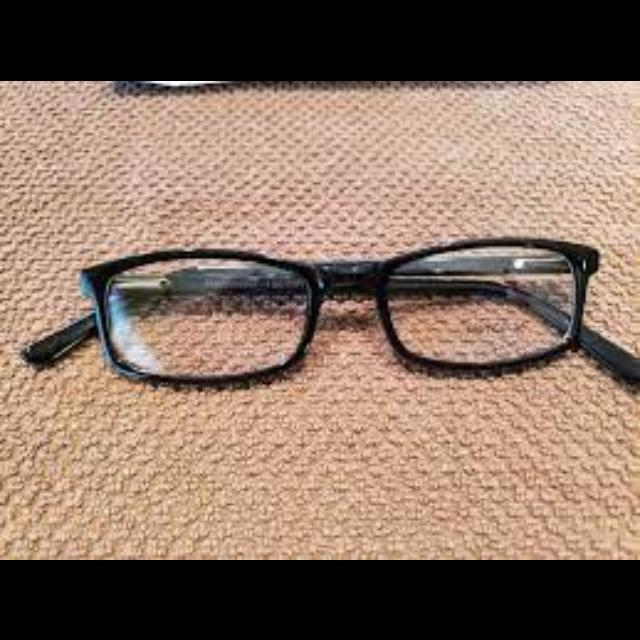mask: (22, 233, 640, 389)
